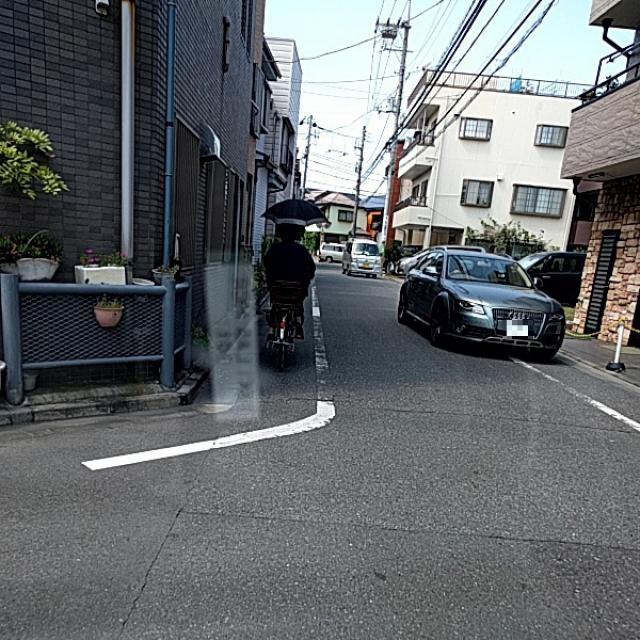pothole: (124, 478, 186, 561)
